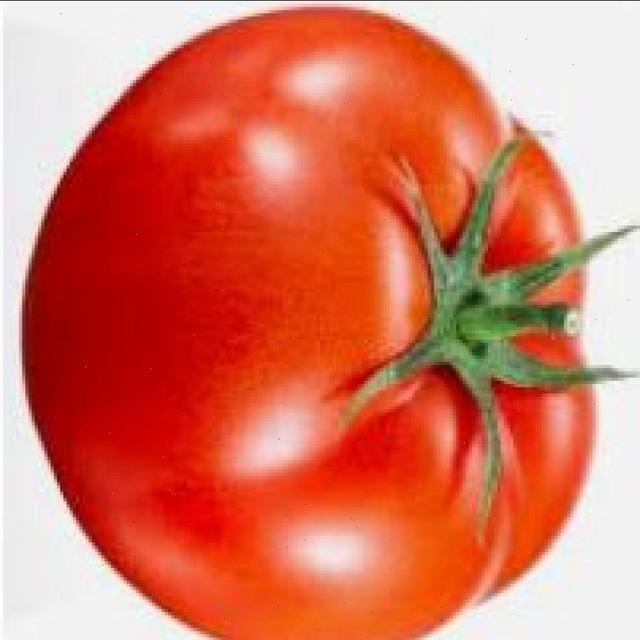Healthy Fruit: (17, 5, 406, 420)
